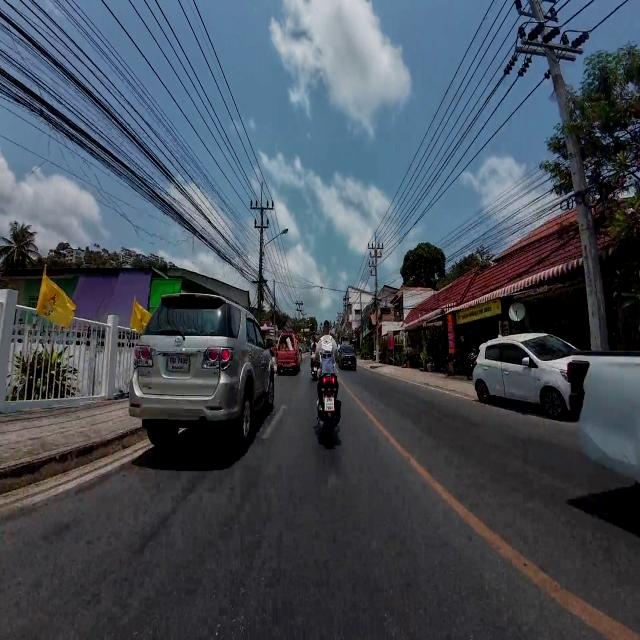car: (129, 294, 274, 448), (473, 334, 576, 419), (338, 345, 356, 370)
motorcycle: (318, 374, 340, 446), (311, 360, 318, 380)
